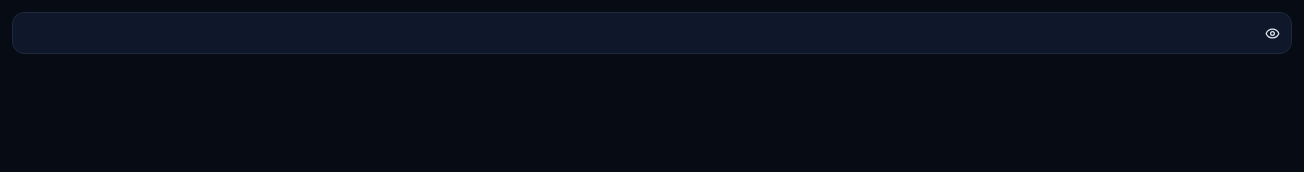
Scenario: componentes de interface › botões só com ícone expõem nome acessível e dica visível
Click the button named "Mostrar senha" at (1272, 33), box top-left (1256, 17), bottom-right (1288, 49)
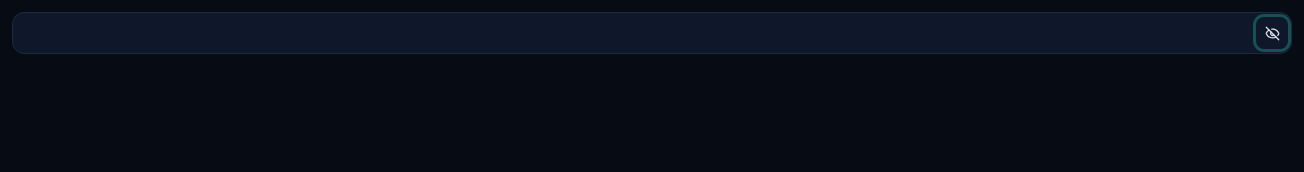
Check: the button named "Ocultar senha" has attribute title="Ocultar senha", box top-left (1256, 17), bottom-right (1288, 49)
